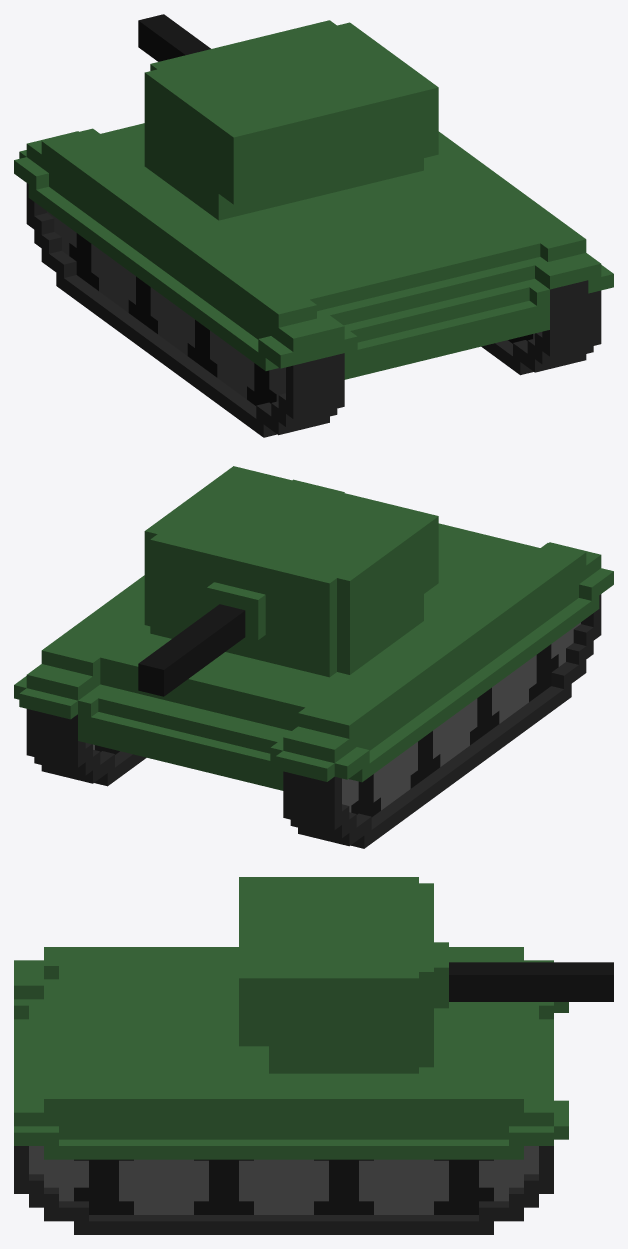
Rendered from RUSSIAN-TANK.fbx.
The picture shows the model from 3 angles, top to bottom: view 1: azimuth 30°, elevation 25°; view 2: azimuth 150°, elevation 25°; view 3: azimuth 270°, elevation 25°; orthographic projection.
Parts seen in each view (by area): view 1: node_bac6c3b5_1f0a_4ba1_954a_497e34f3b539_mesh0; view 2: node_bac6c3b5_1f0a_4ba1_954a_497e34f3b539_mesh0; view 3: node_bac6c3b5_1f0a_4ba1_954a_497e34f3b539_mesh0.
Boxes of the visible parts, x1,y1,x2,y2 form: node_bac6c3b5_1f0a_4ba1_954a_497e34f3b539_mesh0: [14, 14, 613, 437]; node_bac6c3b5_1f0a_4ba1_954a_497e34f3b539_mesh0: [14, 466, 613, 848]; node_bac6c3b5_1f0a_4ba1_954a_497e34f3b539_mesh0: [14, 877, 613, 1234].
Bounding box in the file's own units: 2600 × 1700 × 4000.
1 material, 1 textured.
